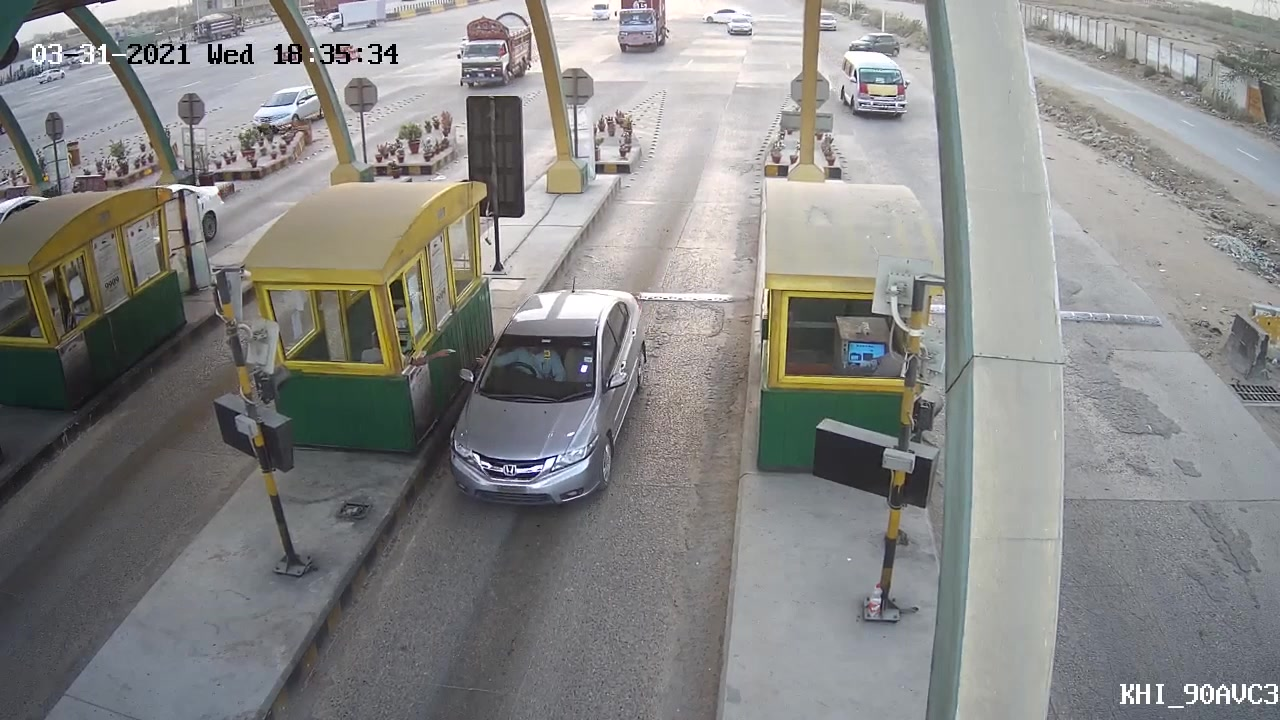F1: (441, 277, 652, 512)
